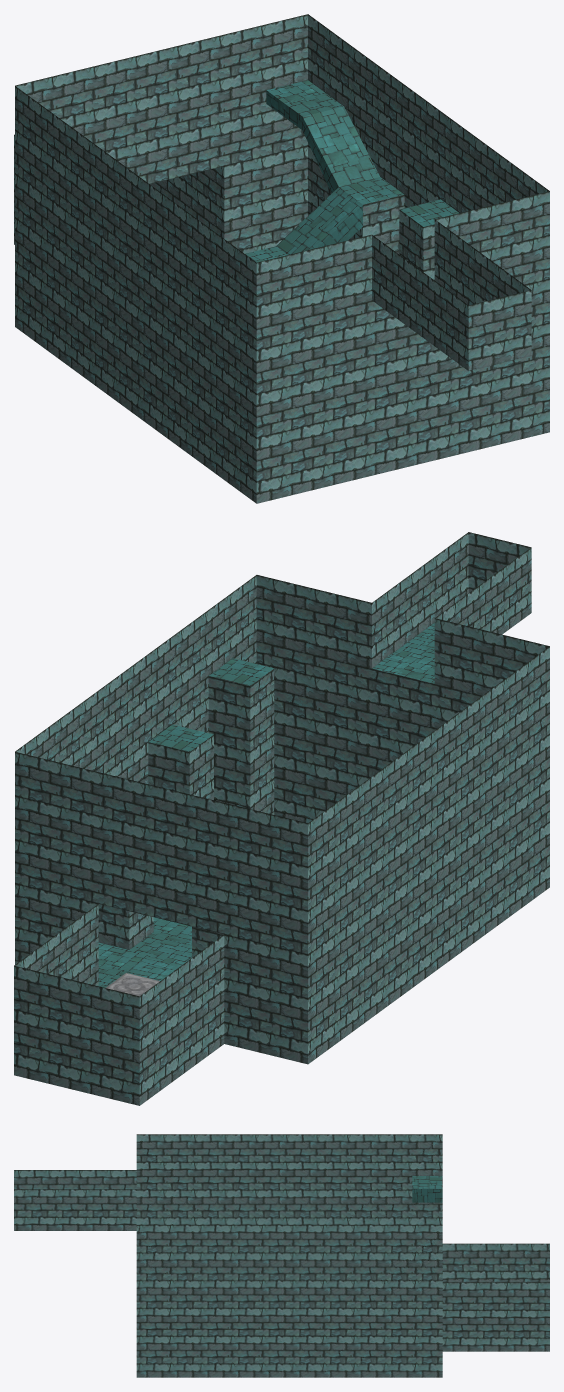
The model's file is WorldG1.fbx.
The picture shows the model from 3 angles, top to bottom: view 1: azimuth 30°, elevation 25°; view 2: azimuth 150°, elevation 25°; view 3: azimuth 270°, elevation 25°; orthographic projection. The views are drawn at different scales.
Parts seen in each view (by area): view 1: ruinWall1 (1), ruinFloor1 (1); view 2: ruinWall1 (1), ruinFloor1 (1), shrine (1); view 3: ruinWall1 (1), ruinFloor1 (1).
Boxes of the visible parts, box(x1,y1,x2,y2) form: ruinWall1 (1): box(14, 14, 549, 503); ruinFloor1 (1): box(245, 80, 459, 262); ruinWall1 (1): box(14, 532, 549, 1105); ruinFloor1 (1): box(98, 623, 434, 987); shrine (1): box(106, 973, 159, 996); ruinWall1 (1): box(14, 1134, 549, 1377); ruinFloor1 (1): box(412, 1176, 442, 1202).
Bounding box in the file's own units: 14 × 11 × 35.
